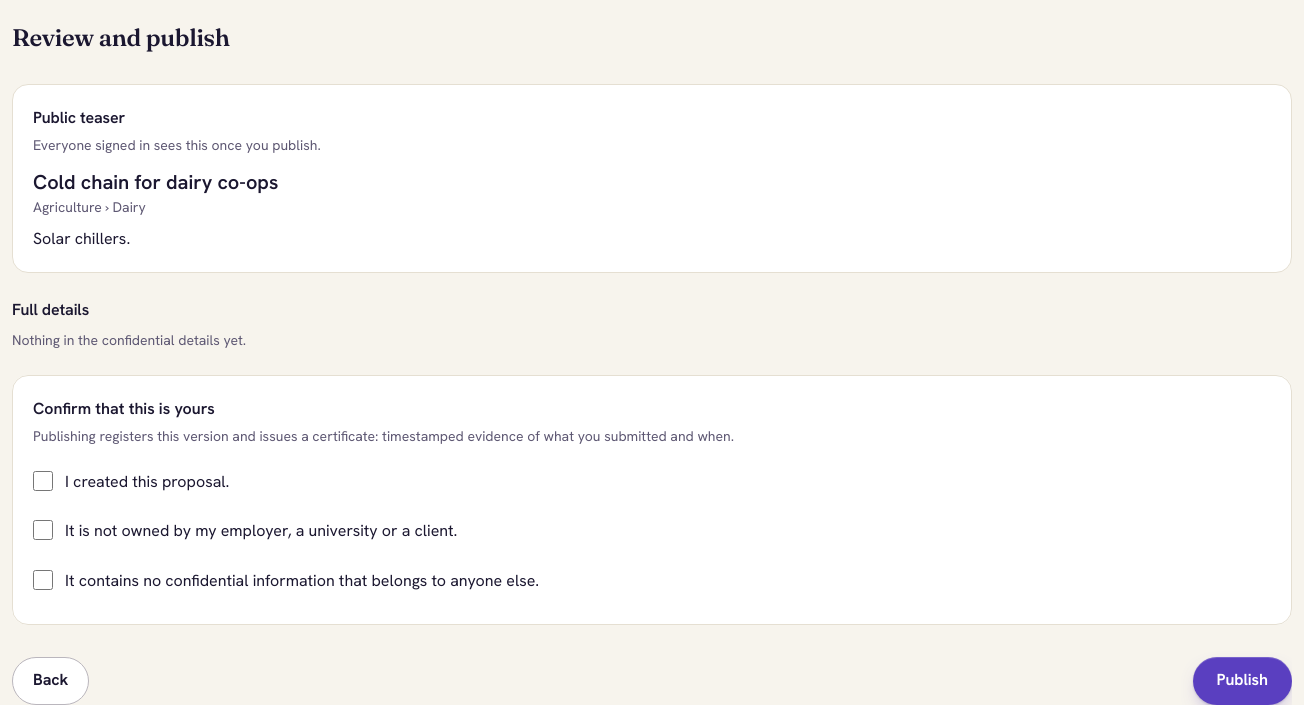
publishing › shows the attestation text from the API and needs all three statements
This screenshot has width=1304, height=705.
(page scrolled)
Check: the checkbox labelled "I created this proposal." is shown, box [33,471,53,491]
Check: the checkbox labelled "It is not owned by my employer, a university or a client." is shown, box [33,520,53,540]
Click the button "Publish": (1242,681) [1193,657,1292,704]
(page scrolled)
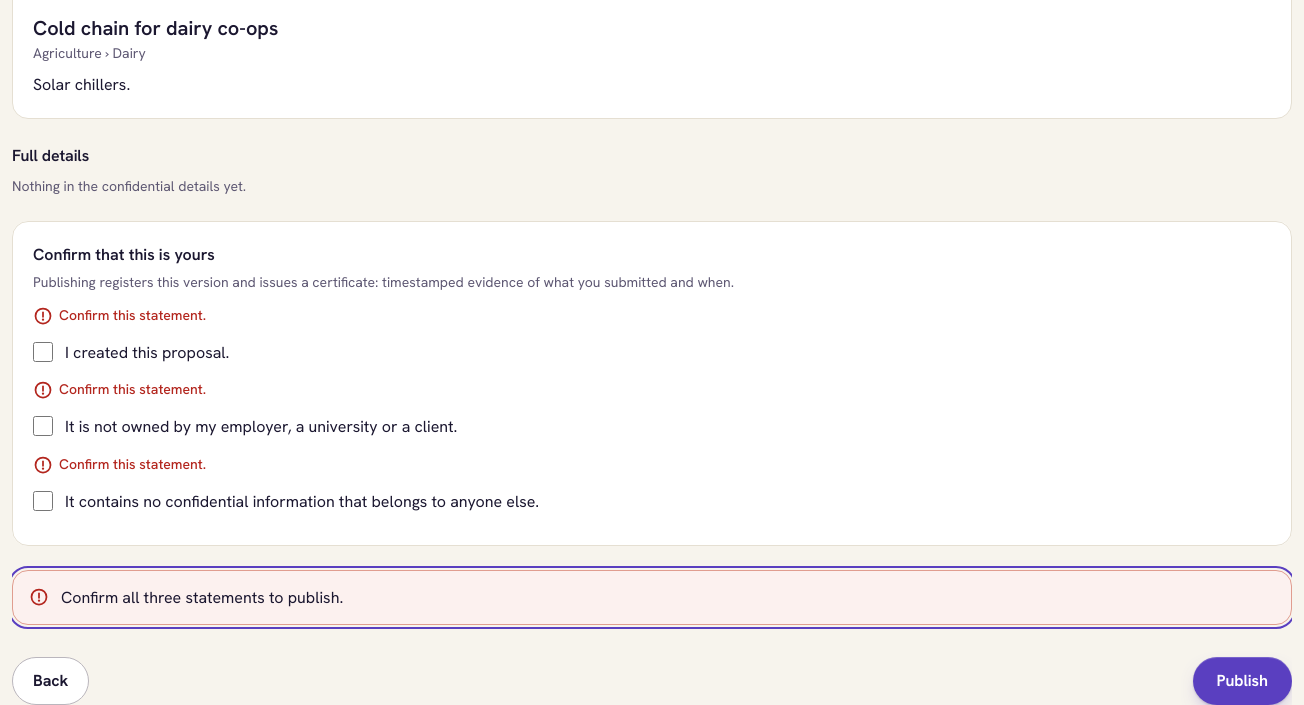
Check: the text "Confirm this statement." is shown 3 times, box [59,305,206,326]; [59,379,206,400]; [59,454,206,475]
